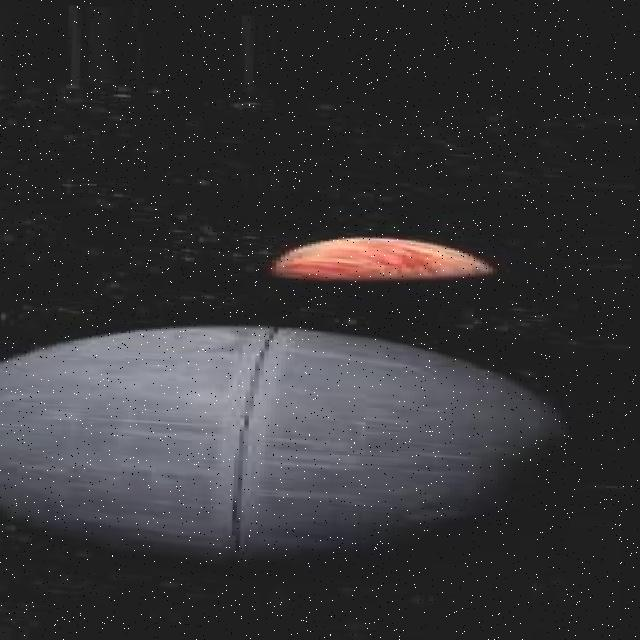deathstar: (0, 308, 589, 575)
